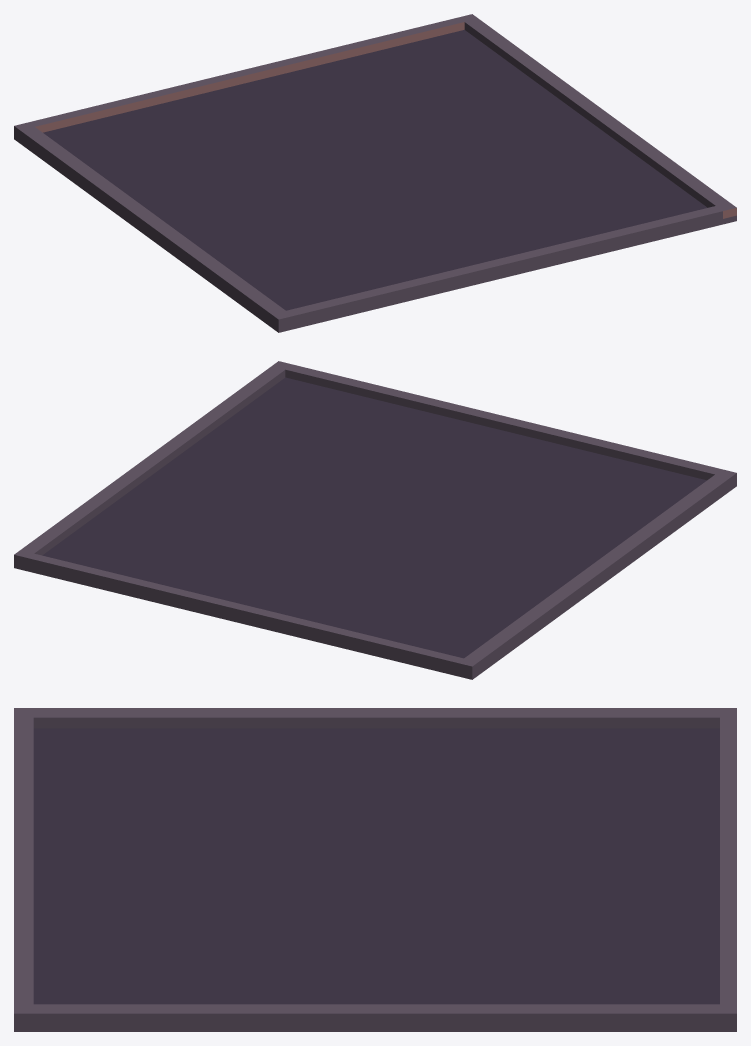
Rendered from Board.fbx.
The picture shows the model from 3 angles, top to bottom: view 1: azimuth 30°, elevation 25°; view 2: azimuth 150°, elevation 25°; view 3: azimuth 270°, elevation 25°; orthographic projection. The views are drawn at different scales.
Parts seen in each view (by area): view 1: Plane; view 2: Plane; view 3: Plane.
Boxes of the visible parts, box(x1,y1,x2,y2) form: Plane: box(14, 14, 736, 332); Plane: box(14, 361, 736, 679); Plane: box(14, 708, 736, 1031).
Bounding box in the file's own units: 1000 × 27.88 × 1000.
